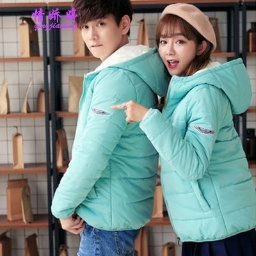face: (68, 1, 135, 59), (154, 13, 214, 76)
